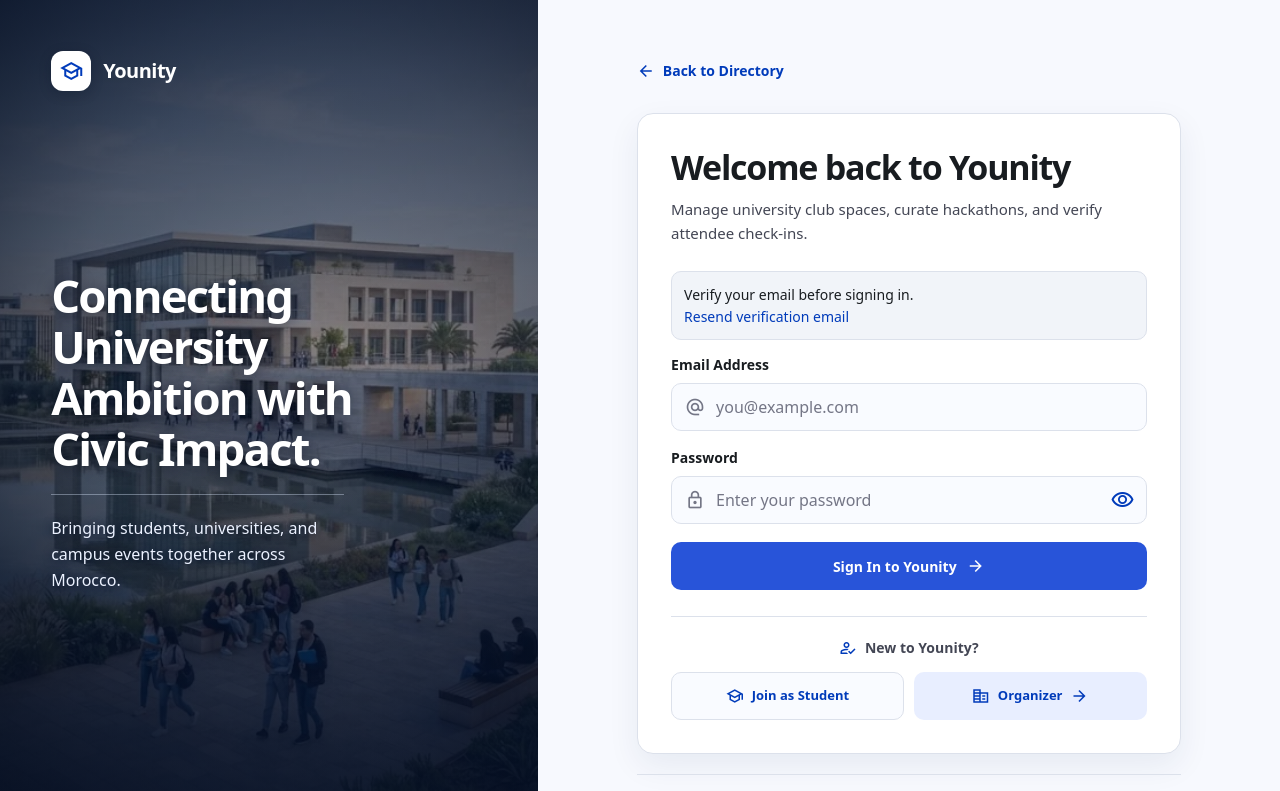
Test case: verification integration with shared authentication › recovers an unverified session on reload without presenting a service outage
Expected: the text "Verify your email before signing in." is shown, [684,285,913,304]
Click the link "Resend verification email": (767, 317) [684,307,849,326]
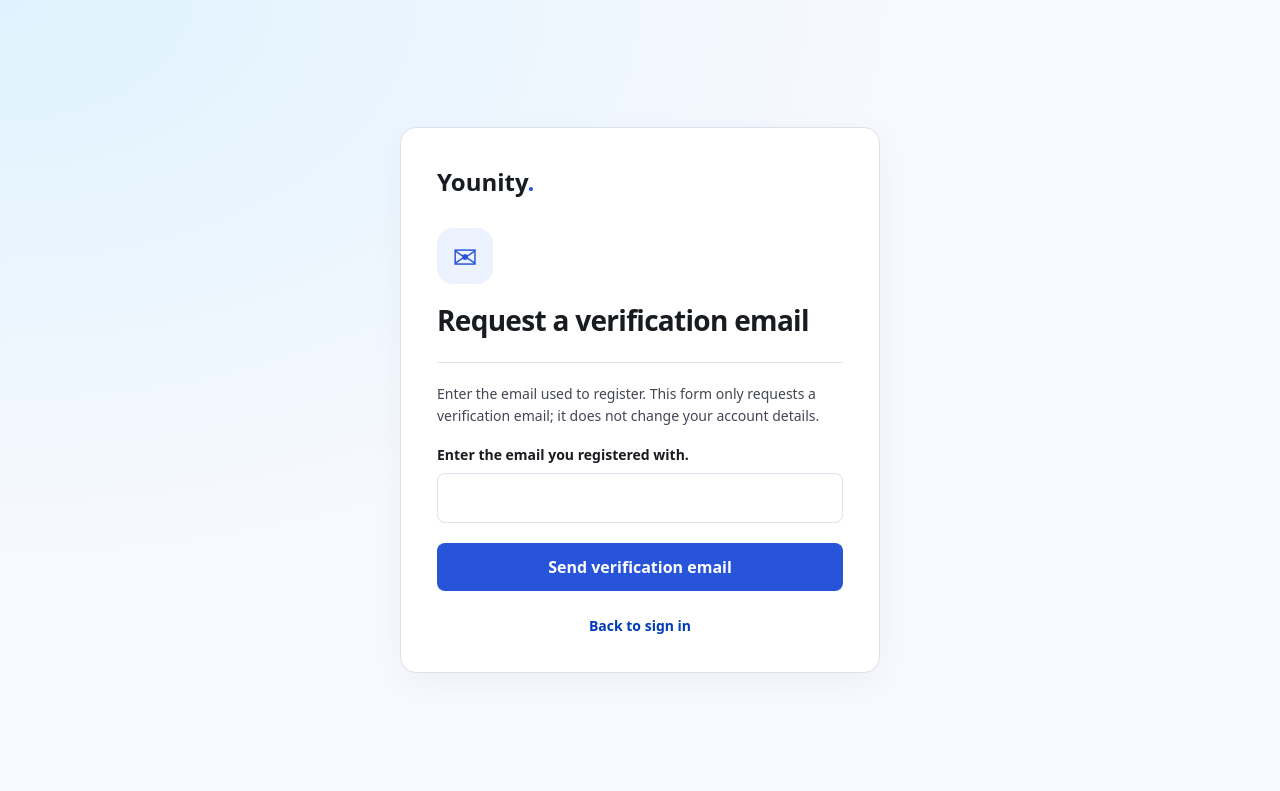
Expected: the heading "Request a verification email" is shown, [437,304,843,338]
Expected: the field labelled "Enter the email you registered with." is empty, [437,473,843,523]
